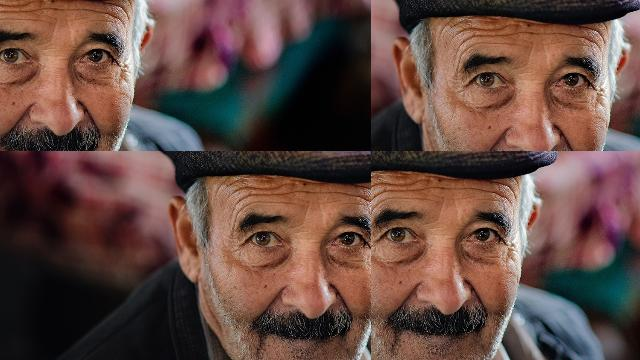chin: (122, 234, 136, 242)
crows_feet: (534, 110, 554, 136), (393, 110, 413, 132), (99, 175, 107, 187), (170, 179, 178, 187)
forehead: (413, 33, 473, 67), (371, 174, 427, 206), (482, 35, 534, 68), (475, 180, 521, 202), (149, 156, 167, 164), (123, 151, 146, 154)
frown_line: (136, 160, 142, 170), (129, 165, 135, 173)
gummy_smile: (398, 272, 418, 312), (467, 278, 489, 312), (112, 201, 122, 223), (148, 202, 158, 220)
sad_smile: (106, 227, 115, 241), (155, 230, 161, 240)
